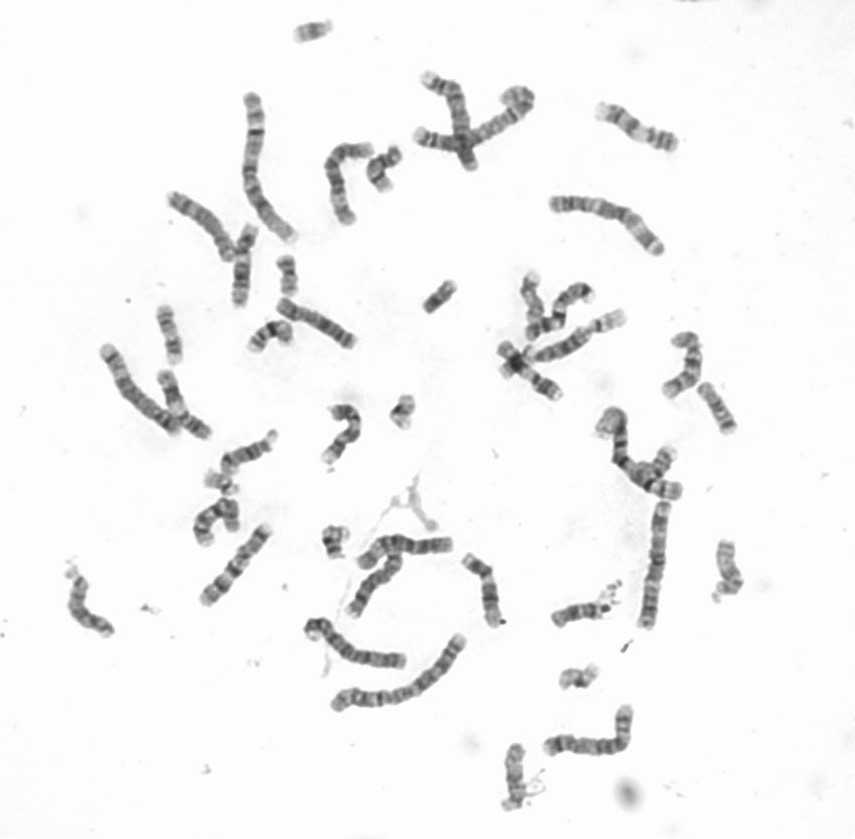chromosomes: (328, 633, 478, 721), (409, 73, 546, 158), (244, 84, 309, 261), (592, 400, 687, 503), (546, 187, 669, 264), (180, 522, 278, 611), (99, 341, 179, 438), (294, 614, 415, 677), (416, 70, 479, 185), (161, 186, 241, 270), (535, 704, 646, 760), (55, 556, 122, 645), (489, 338, 576, 406), (586, 97, 685, 154), (637, 496, 677, 636), (343, 540, 413, 615), (275, 295, 364, 353), (520, 281, 601, 343), (655, 321, 711, 406), (155, 366, 216, 443), (329, 138, 378, 233), (457, 550, 508, 639), (354, 532, 457, 574), (489, 737, 533, 825), (227, 222, 263, 311), (320, 400, 362, 476), (215, 428, 284, 474), (705, 534, 748, 607), (189, 497, 243, 555), (699, 383, 745, 441), (363, 142, 410, 197), (524, 327, 589, 366), (287, 13, 340, 55), (154, 302, 187, 367), (633, 439, 682, 482), (416, 278, 466, 320), (542, 602, 614, 631), (248, 318, 301, 353), (494, 343, 538, 383), (517, 268, 546, 323), (315, 522, 352, 564), (548, 665, 606, 691), (389, 392, 422, 434), (273, 251, 301, 298), (199, 470, 244, 498), (587, 306, 629, 336)
